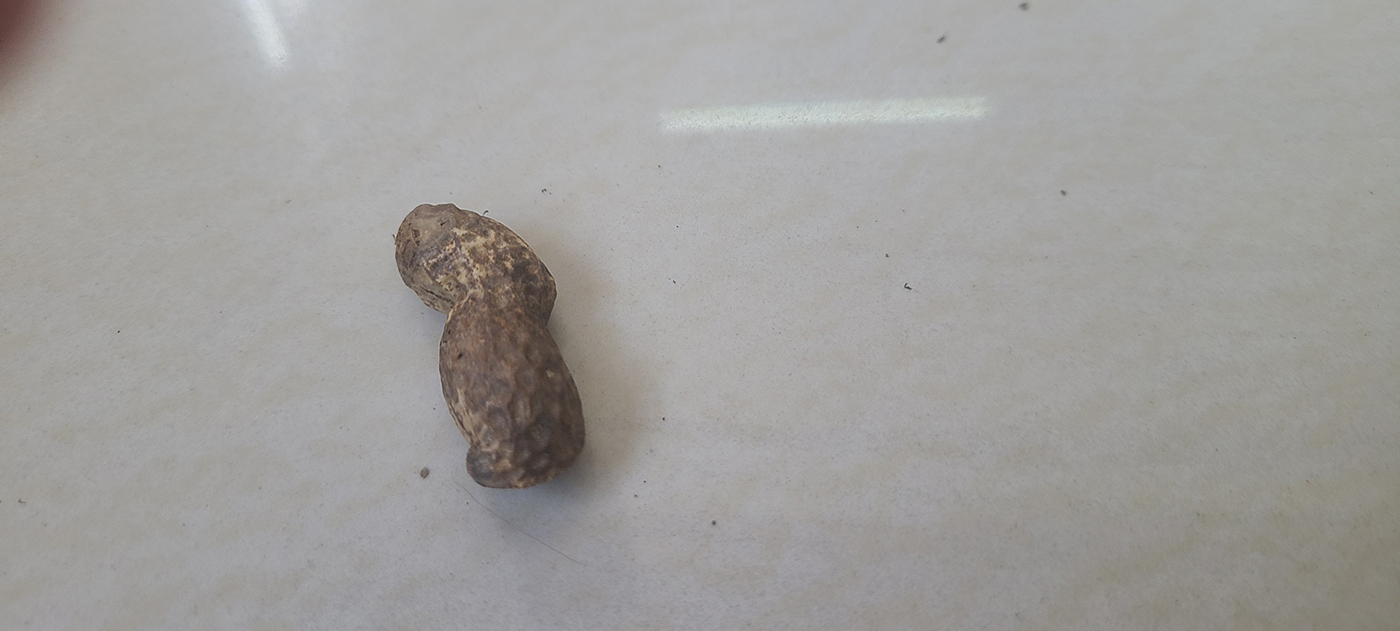l: (392, 200, 586, 490)
